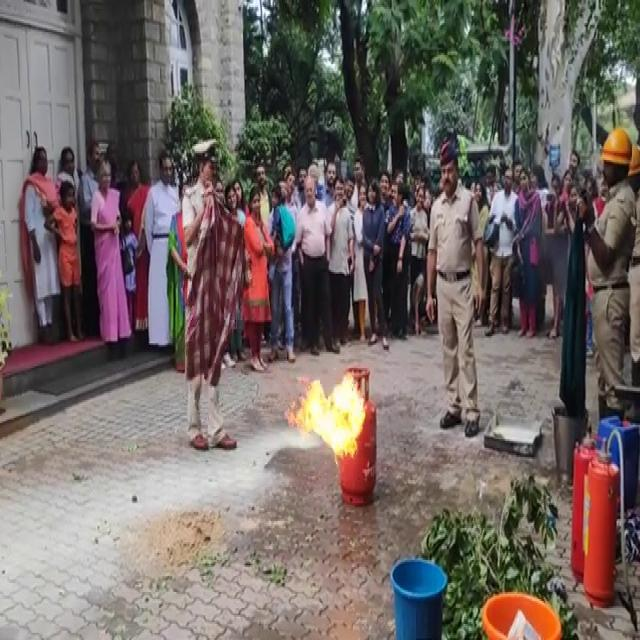fire: (288, 365, 369, 463)
